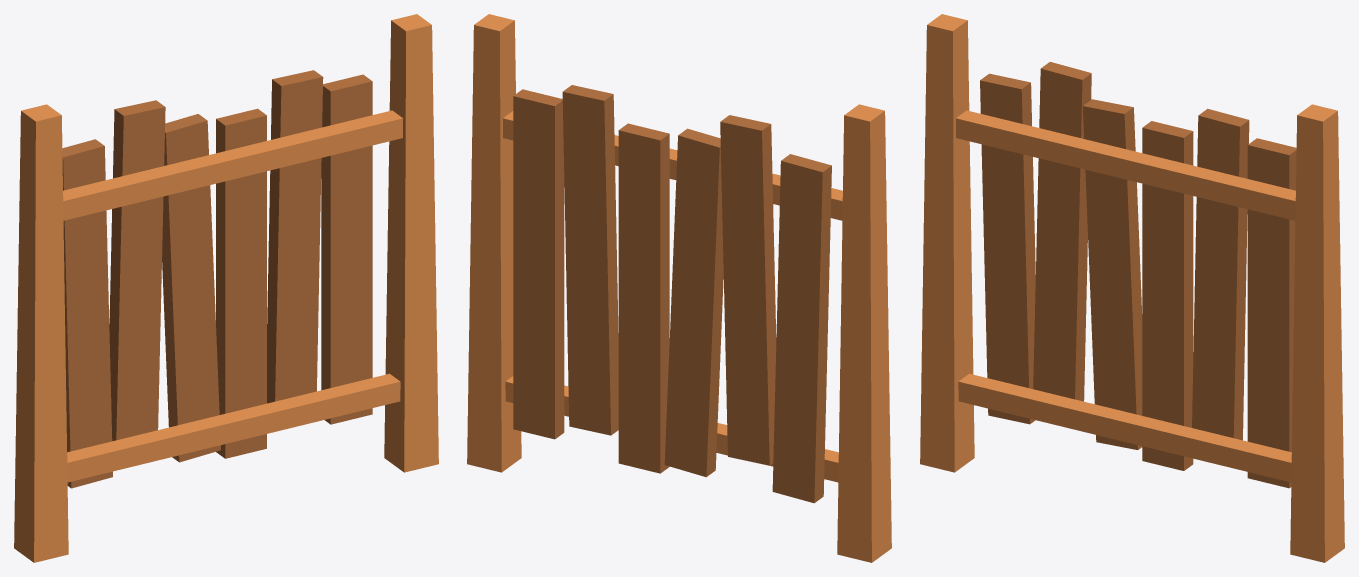
The model's file is Fence.glb.
3 views of the same model, side by side, from view 1: azimuth 30°, elevation 25°; view 2: azimuth 150°, elevation 25°; view 3: azimuth 330°, elevation 25° (orthographic).
Visible parts, largest first — view 1: fenceFortified; view 2: fenceFortified; view 3: fenceFortified.
Boxes of the visible parts, x1=… form: fenceFortified: x1=14, y1=14, x2=438, y2=562; fenceFortified: x1=467, y1=14, x2=891, y2=562; fenceFortified: x1=920, y1=14, x2=1344, y2=562.
Size of the model in its own units: 0.5 by 0.5175 by 0.053.
